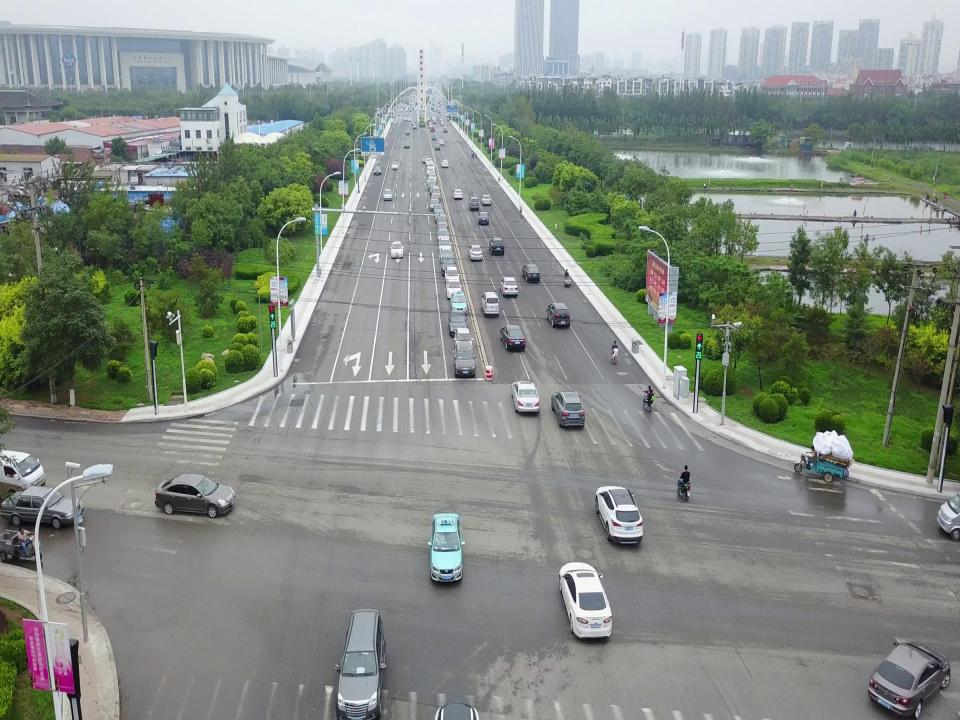car: (865, 640, 951, 716), (559, 563, 613, 638), (154, 473, 235, 515), (4, 486, 84, 526), (596, 487, 642, 544), (429, 516, 461, 581), (552, 393, 586, 426), (454, 341, 478, 383), (511, 380, 539, 413), (498, 324, 526, 347), (544, 303, 570, 324), (448, 311, 468, 335), (453, 326, 472, 348), (522, 264, 542, 283), (500, 276, 518, 297), (486, 236, 506, 254), (449, 292, 467, 312), (440, 255, 456, 272), (446, 279, 462, 296), (468, 245, 483, 262), (444, 266, 459, 281), (438, 248, 454, 261), (390, 241, 402, 257), (468, 197, 482, 209), (481, 194, 493, 207), (479, 209, 489, 224), (436, 221, 448, 232), (437, 229, 449, 240), (428, 185, 438, 195), (436, 210, 446, 220), (383, 189, 392, 200), (430, 198, 439, 209), (433, 204, 444, 212), (428, 166, 436, 175), (428, 170, 436, 179), (428, 180, 436, 189), (374, 165, 381, 175), (453, 190, 463, 197), (424, 159, 434, 166), (427, 177, 437, 184), (442, 160, 450, 168), (427, 162, 435, 169), (423, 155, 429, 163), (404, 141, 410, 148), (392, 162, 398, 169), (438, 139, 445, 145), (442, 127, 448, 132), (432, 133, 436, 140), (431, 126, 435, 132), (436, 144, 440, 150), (413, 124, 417, 129), (406, 130, 410, 135), (412, 121, 416, 126), (404, 116, 408, 120), (408, 117, 412, 121), (413, 106, 417, 110), (433, 119, 437, 123), (400, 108, 404, 111), (405, 108, 408, 111), (438, 109, 440, 113), (410, 108, 412, 111), (437, 101, 439, 104), (440, 99, 442, 102), (439, 102, 441, 104)
van: (338, 610, 386, 720), (0, 448, 46, 492), (936, 489, 960, 538), (482, 290, 500, 315), (435, 216, 449, 227), (438, 238, 451, 249), (432, 185, 441, 198), (440, 120, 444, 126)
